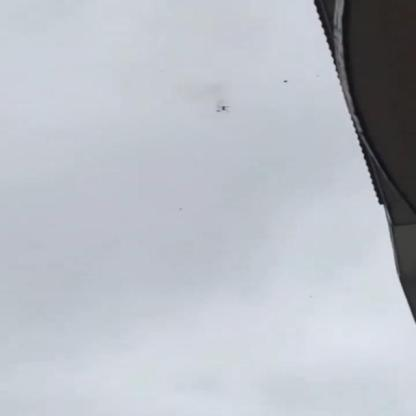drone: (215, 105, 230, 112)
